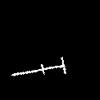double_crochet: (12, 57, 65, 75)
